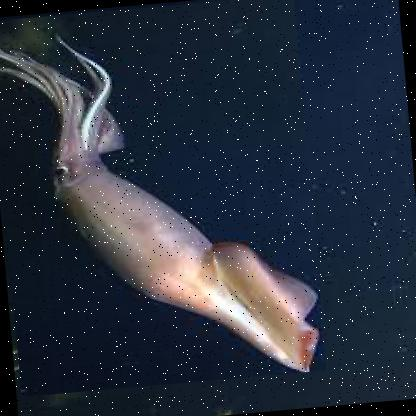colossal_squid: (0, 0, 327, 399)
